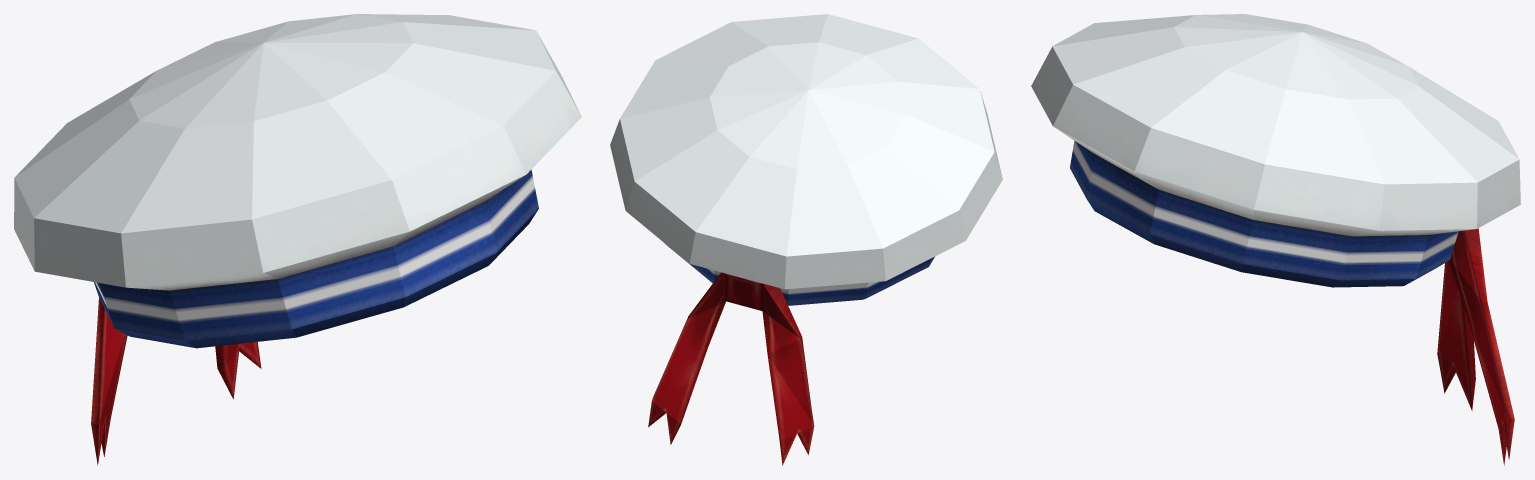
The model's file is Rabbit_summerHat.obj.
The picture shows the model from 3 angles, left to right: view 1: azimuth 30°, elevation 25°; view 2: azimuth 150°, elevation 25°; view 3: azimuth 270°, elevation 25°; orthographic projection. The views are drawn at different scales.
Visible parts, largest first — view 1: Rabbit_summerHat_tri; view 2: Rabbit_summerHat_tri; view 3: Rabbit_summerHat_tri.
Part boxes in pixels (x1=…): Rabbit_summerHat_tri: x1=14, y1=14, x2=581, y2=465; Rabbit_summerHat_tri: x1=610, y1=14, x2=1002, y2=465; Rabbit_summerHat_tri: x1=1031, y1=14, x2=1520, y2=465.
Bounding box in the file's own units: 0.2744 × 0.252 × 0.2719.
1 material, 1 textured.
